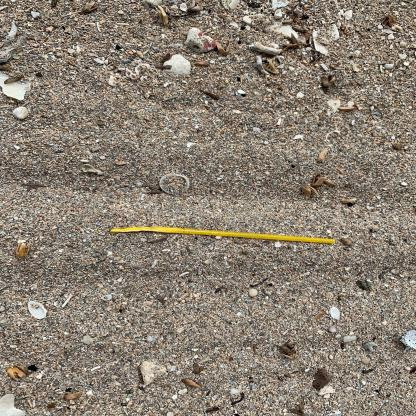trash: (110, 224, 340, 248), (158, 170, 193, 198)
